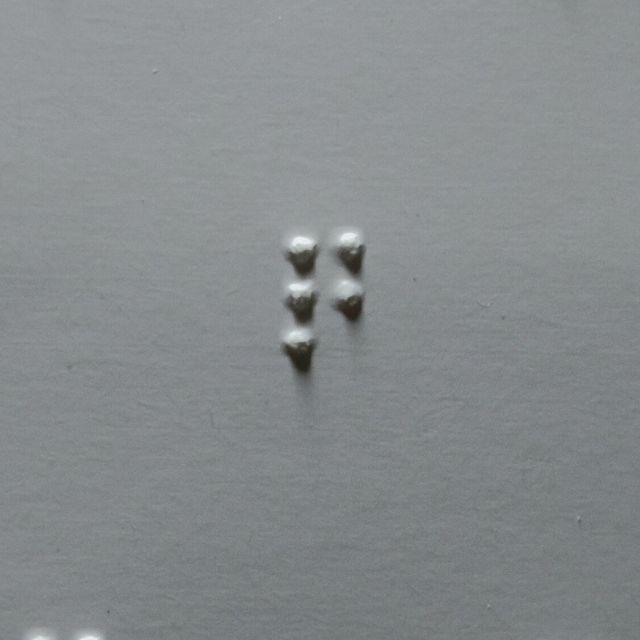q: (283, 232, 368, 369)
